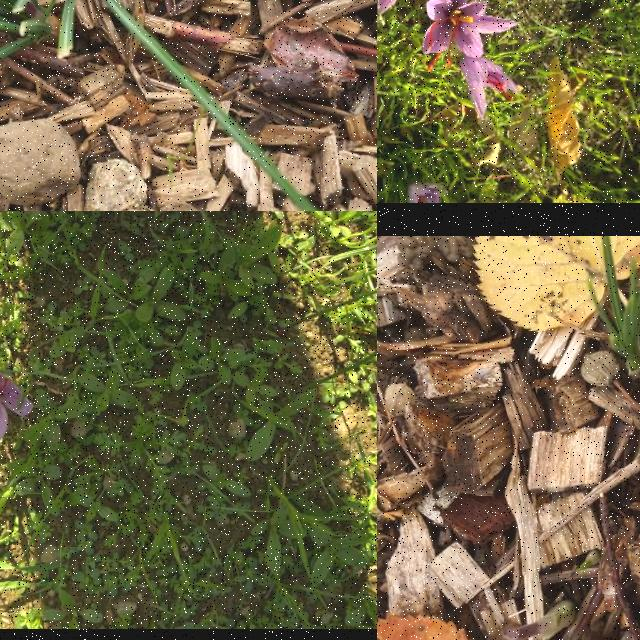flower: (420, 0, 518, 70), (460, 57, 520, 121), (0, 355, 34, 448), (408, 183, 449, 203)
